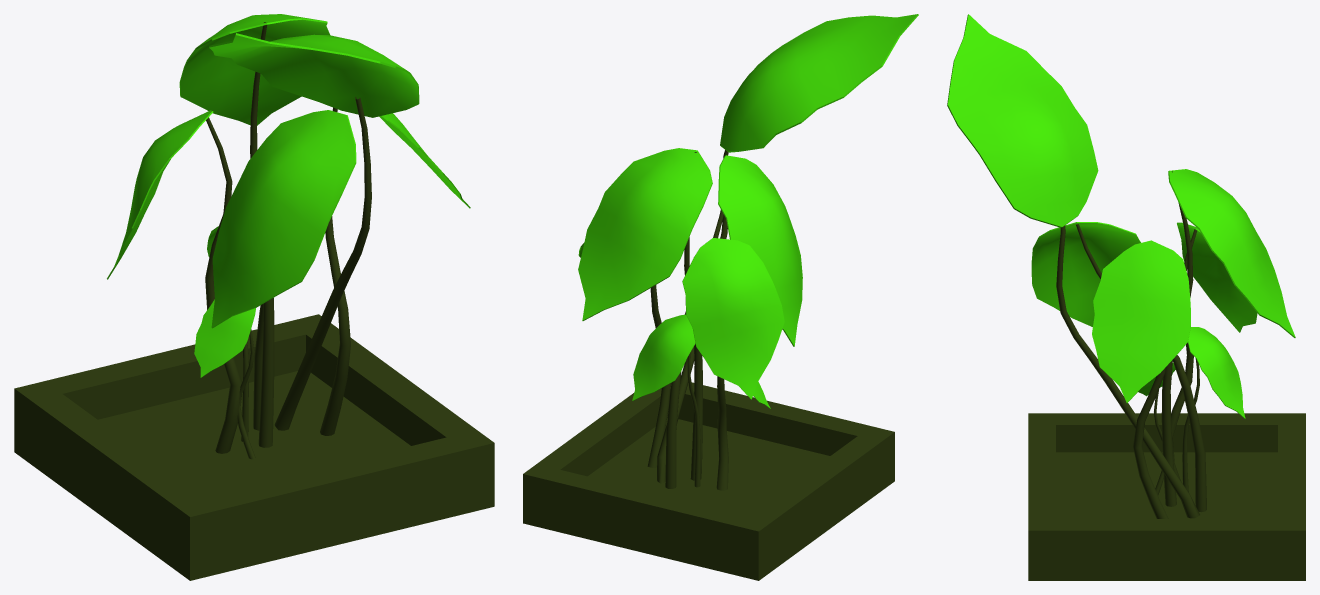
Rendered from Monstera.fbx.
The picture shows the model from 3 angles, left to right: view 1: azimuth 30°, elevation 25°; view 2: azimuth 150°, elevation 25°; view 3: azimuth 270°, elevation 25°; orthographic projection. The views are drawn at different scales.
Visible parts, largest first — view 1: Tub_Monstera, Monstera; view 2: Monstera, Tub_Monstera; view 3: Monstera, Tub_Monstera.
Boxes of the visible parts, x1,y1,x2,y2 form: Tub_Monstera: [14, 314, 494, 580]; Monstera: [107, 14, 470, 459]; Monstera: [578, 14, 918, 490]; Tub_Monstera: [523, 382, 894, 580]; Monstera: [947, 14, 1295, 518]; Tub_Monstera: [1028, 413, 1305, 580].
Size of the model in its own units: 269 by 430 by 309.
